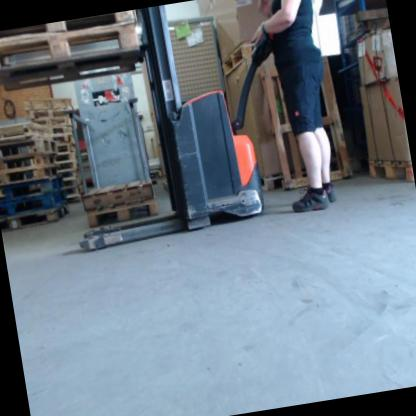pallet: (259, 55, 354, 191), (0, 20, 144, 93), (0, 9, 137, 44), (76, 174, 158, 216), (81, 197, 160, 230), (0, 200, 72, 233), (0, 187, 69, 219), (217, 39, 264, 79), (0, 160, 67, 188), (366, 153, 415, 190), (0, 174, 67, 201), (0, 148, 64, 176), (0, 132, 58, 161), (253, 167, 312, 195), (0, 118, 53, 147), (23, 92, 75, 117), (27, 104, 76, 125), (31, 113, 78, 134), (45, 123, 74, 140), (53, 150, 79, 165), (55, 141, 78, 156), (52, 134, 77, 147), (54, 160, 79, 173), (57, 168, 82, 180), (61, 176, 81, 188), (65, 186, 80, 198)
pallet_truck: (40, 0, 309, 255)
stillage: (151, 6, 236, 113)
